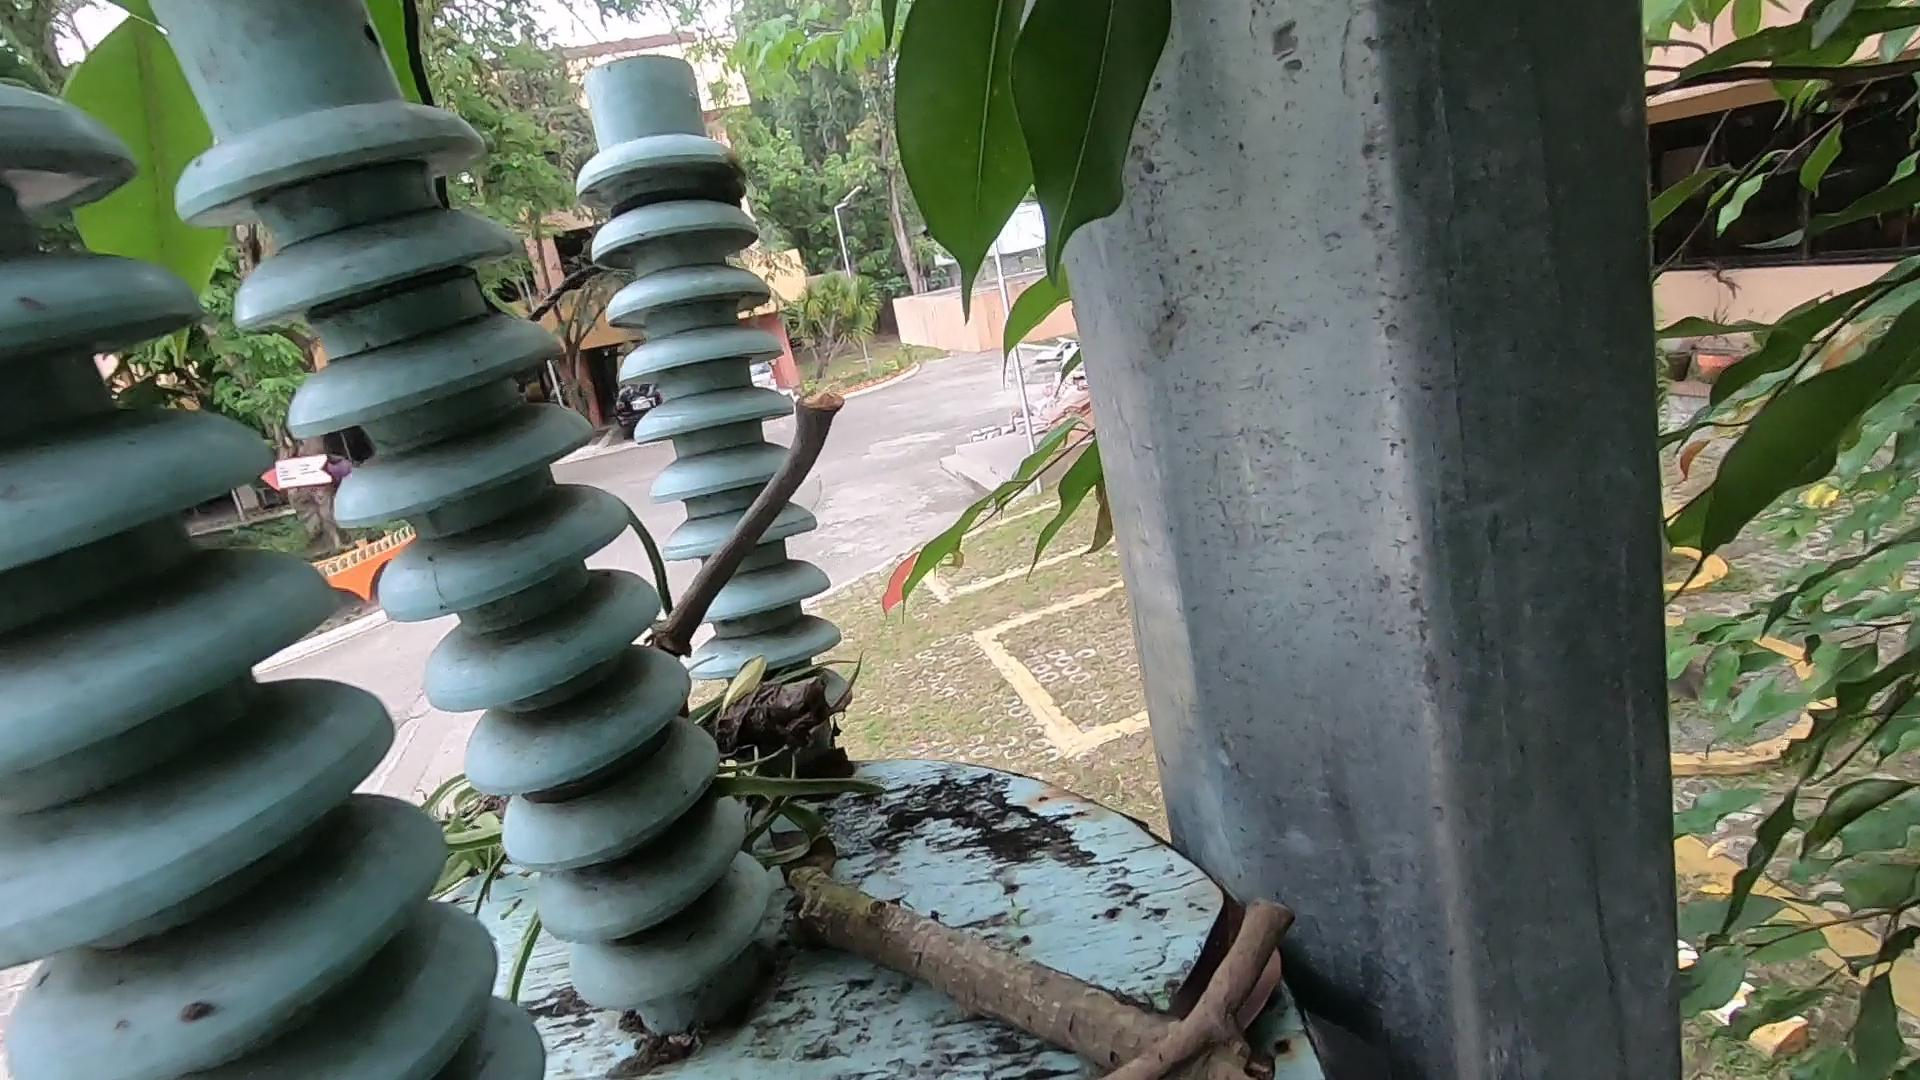branch with leaves: (339, 692, 1247, 1080)
tree branch: (647, 334, 884, 721), (1124, 822, 1349, 1080)
